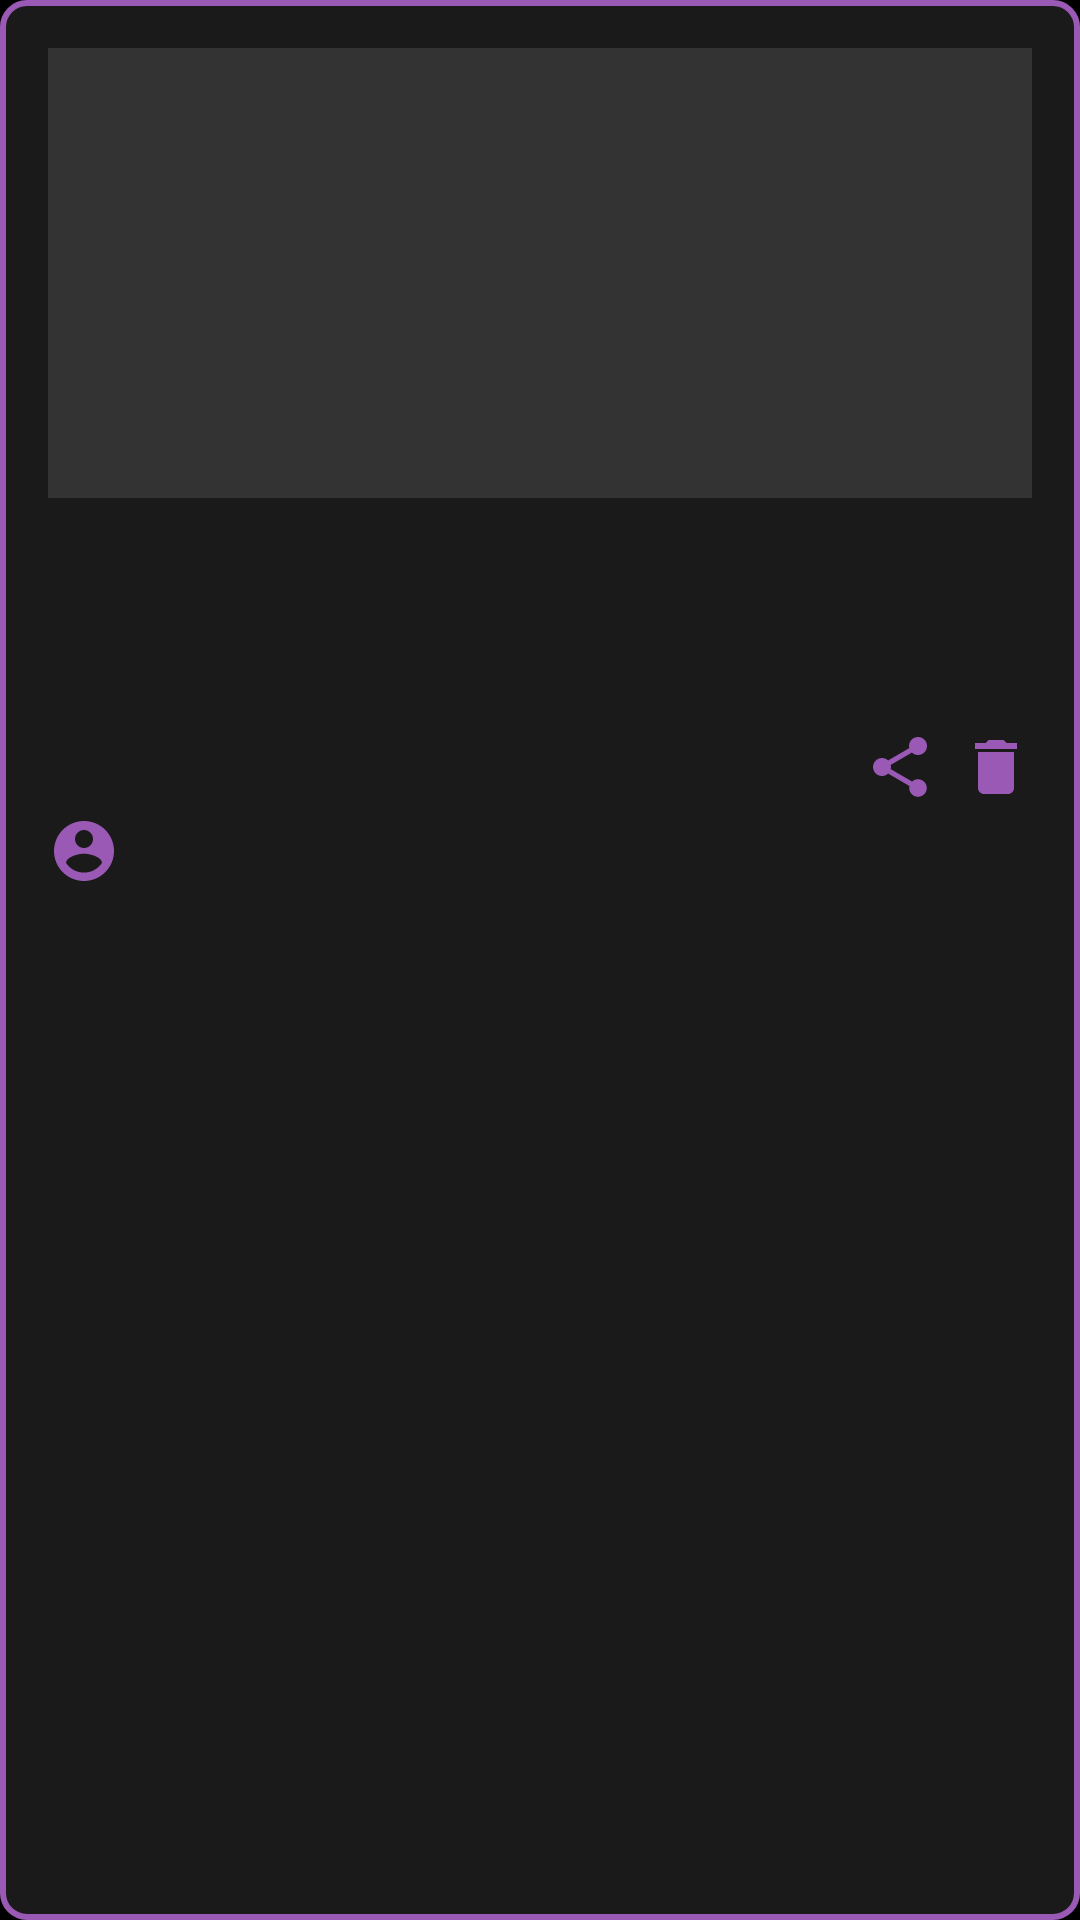

Icon click points for this 1080 x 1920 phone screenshot, format point (x, y):
Delete news article: point (996, 767)
Share news article: point (900, 767)
